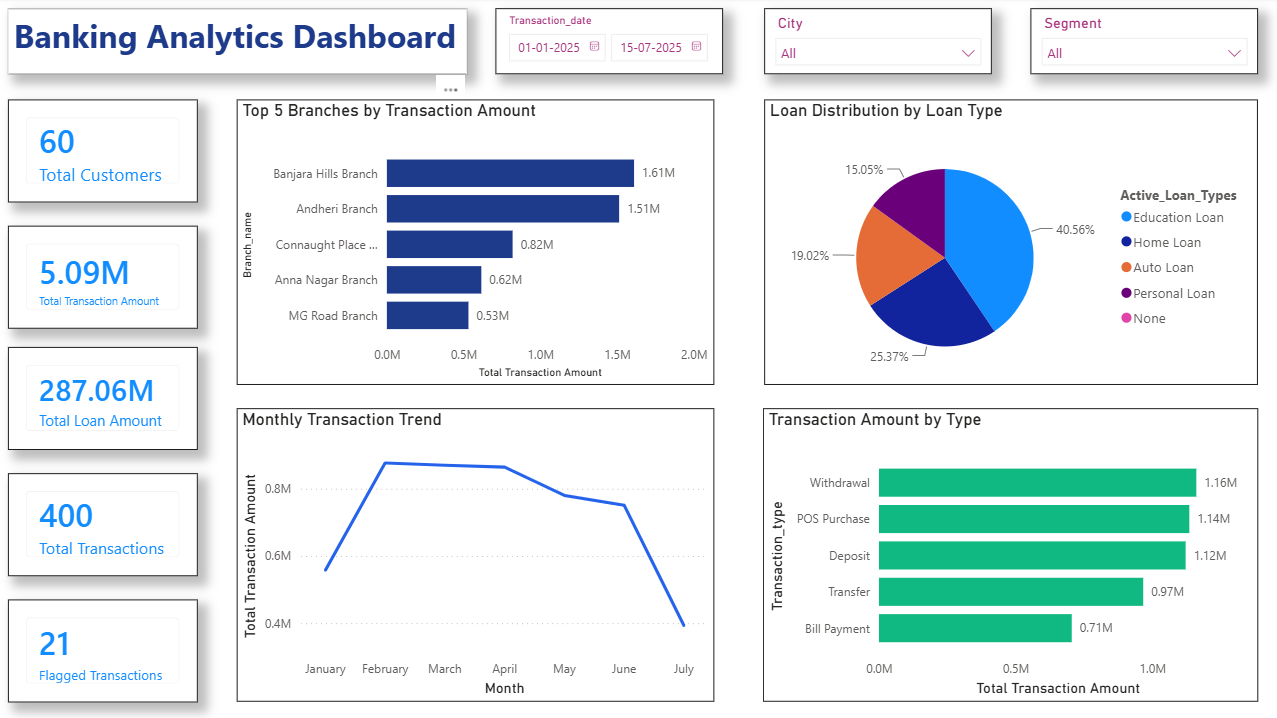

The dashboard page shown, as its layout file describes it:
{"tool":"powerbi","page":{"name":"Banking Dashboard","canvas":[1280,720],"ordinal":0},"visuals":[{"type":"textbox","box":[9.6,11,456.9,65.9],"z":0},{"type":"cardVisual","fields":{"Data":["Bank Data.Total Customers"]},"box":[10,102,189.1,102],"z":1},{"type":"cardVisual","fields":{"Data":["Bank Data.Total Transaction Amount"]},"box":[10,227.6,189.1,102],"z":2},{"type":"cardVisual","fields":{"Data":["Bank Data.Total Loan Amount"]},"box":[10,348.3,189.1,102],"z":3},{"type":"cardVisual","fields":{"Data":["Bank Data.Total Transactions"]},"box":[10,473.9,189.1,102],"z":4},{"type":"cardVisual","fields":{"Data":["Bank Data.Flagged Transaction"]},"box":[10,599.6,189.1,102],"z":5},{"type":"slicer","fields":{"Values":["Bank Data.Transaction_date"]},"box":[495.1,11.2,226.4,65.9],"z":6},{"type":"slicer","fields":{"Values":["Bank Data.City"]},"box":[762.5,11.2,226.4,65.9],"z":7},{"type":"slicer","fields":{"Values":["Bank Data.Segment"]},"box":[1027.5,11.2,226.4,65.9],"z":8},{"type":"lineChart","title":"Monthly Transaction Trend","fields":{"Category":["Bank Data.Transaction_date.Variation.Date Hierarchy.Month","Bank Data.Transaction_date.Variation.Date Hierarchy.Day"],"Y":["Bank Data.Total Transaction Amount"]},"box":[237.6,409.3,475.2,292.3],"z":9},{"type":"barChart","title":" Transaction Amount by Type ","fields":{"Category":["Bank Data.Transaction_type"],"Y":["Bank Data.Total Transaction Amount"]},"box":[761.3,409.3,492.6,292.3],"z":10},{"type":"pieChart","title":" Loan Distribution by Loan Type","fields":{"Category":["Bank Data.Active_Loan_Types"],"Y":["Bank Data.Total Loan Amount"]},"box":[762.5,102,491.4,283.6],"z":11},{"type":"clusteredBarChart","title":"Top 5 Branches by Transaction Amount","fields":{"Category":["Bank Data.Branch_name"],"Y":["Bank Data.Total Transaction Amount"]},"box":[237.6,102,475.2,283.6],"z":12}]}

Visuals, with their boxes in screenshot pixels (x1, y1, x2, y2), scaled from the page's 1280x720 canvas onto the 1277x718 screenshot:
textbox: x1=10, y1=11, x2=465, y2=77
cardVisual - Bank Data.Total Customers: x1=10, y1=102, x2=199, y2=203
cardVisual - Bank Data.Total Transaction Amount: x1=10, y1=227, x2=199, y2=329
cardVisual - Bank Data.Total Loan Amount: x1=10, y1=347, x2=199, y2=449
cardVisual - Bank Data.Total Transactions: x1=10, y1=473, x2=199, y2=574
cardVisual - Bank Data.Flagged Transaction: x1=10, y1=598, x2=199, y2=700
slicer - Bank Data.Transaction_date: x1=494, y1=11, x2=720, y2=77
slicer - Bank Data.City: x1=761, y1=11, x2=987, y2=77
slicer - Bank Data.Segment: x1=1025, y1=11, x2=1251, y2=77
"Monthly Transaction Trend" lineChart: x1=237, y1=408, x2=711, y2=700
" Transaction Amount by Type " barChart: x1=760, y1=408, x2=1251, y2=700
" Loan Distribution by Loan Type" pieChart: x1=761, y1=102, x2=1251, y2=385
"Top 5 Branches by Transaction Amount" clusteredBarChart: x1=237, y1=102, x2=711, y2=385
